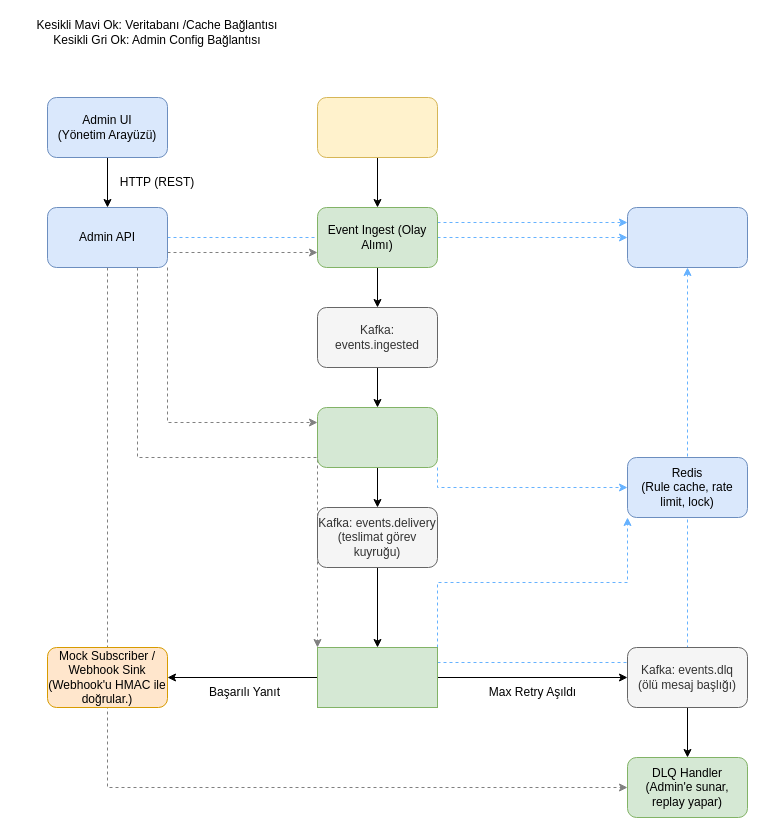
Image size: 765x835. Some labels were removed from this diagram. The shapes that lost their labels are listed below. From the top down, each one's box as (x1, y1, x2, y2) in pixels, then its label:
(316, 96, 438, 158): Mock Publisher (API Key ve HMAC ile event üretir)
(626, 206, 748, 268): PostgreSQL
(316, 406, 438, 468): Routing Engine (subscription, rule eşleştirme)
(316, 646, 438, 708): Delivery Worker (HTTP WebHook, backoff retry)
